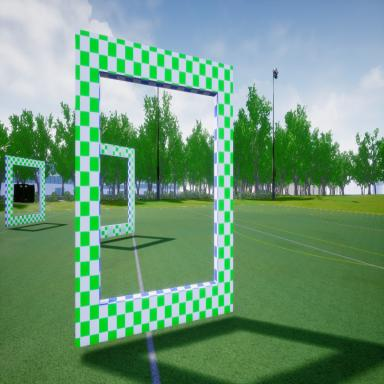gate: (72, 23, 232, 354)
